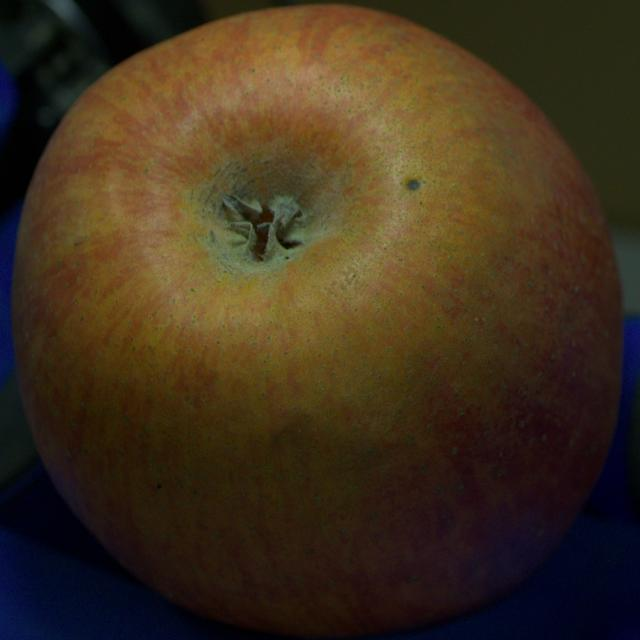apple: (12, 6, 622, 636)
pest: (408, 180, 419, 189)
